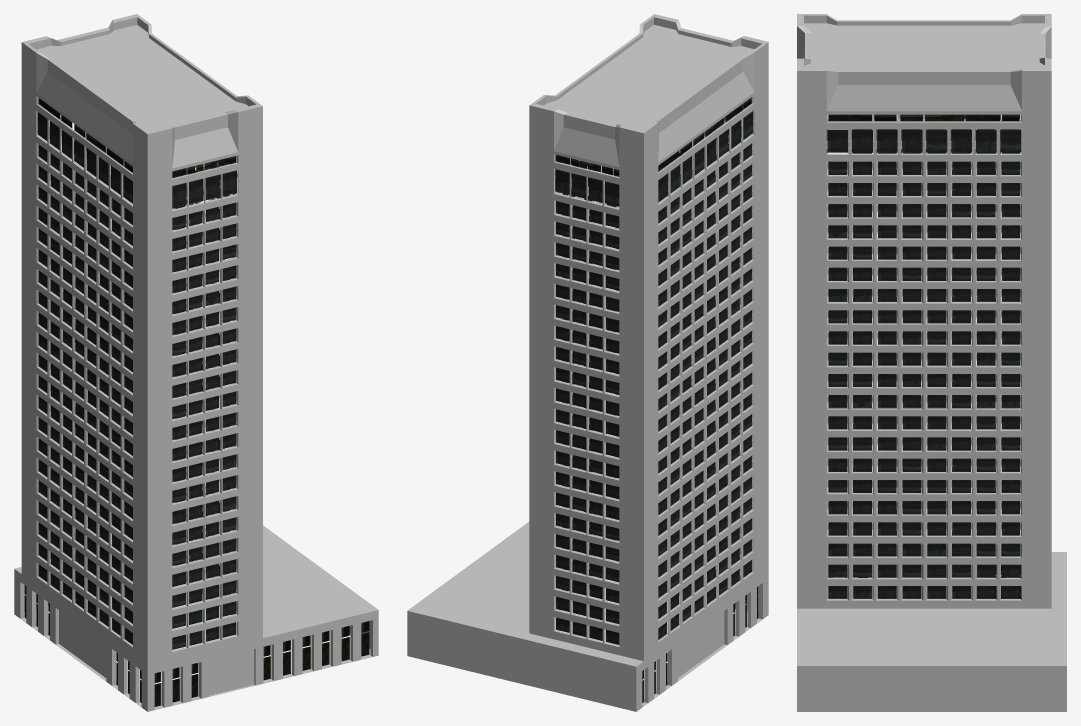
The picture shows the model from 3 angles, left to right: view 1: azimuth 30°, elevation 25°; view 2: azimuth 150°, elevation 25°; view 3: azimuth 270°, elevation 25°; orthographic projection.
Parts seen in each view (by area): view 1: EC-009, EC-009-Base; view 2: EC-009; view 3: EC-009.
Part boxes in pixels (bbox=[...]): EC-009: bbox=[14, 14, 378, 711]; EC-009-Base: bbox=[20, 614, 372, 709]; EC-009: bbox=[407, 14, 768, 711]; EC-009: bbox=[797, 14, 1066, 711].
Size of what is drawn, in the model's own units: 36 by 86 by 36.
